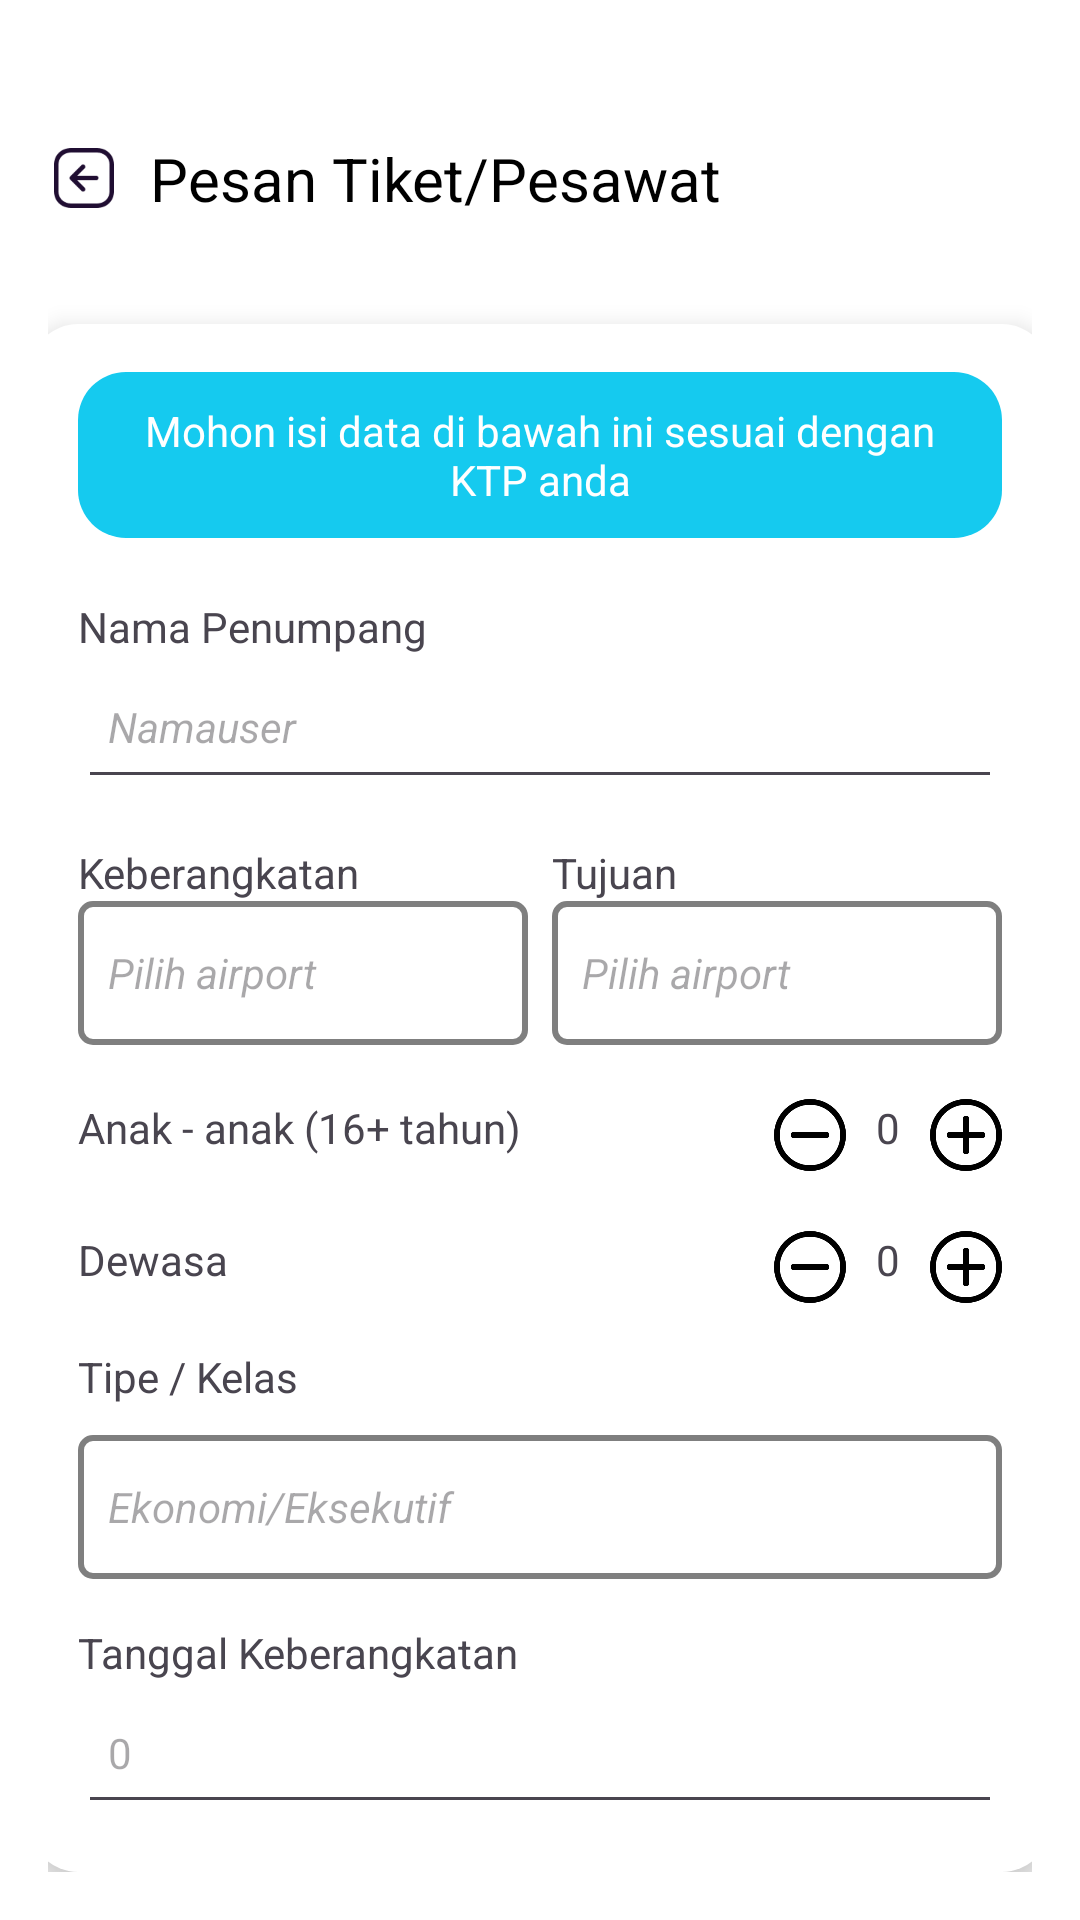

Icon bounding boxes for this 1080*1920 phone screenshot, format BBox(x1, y1, x2, y2):
iconback: BBox(54, 148, 114, 208)
iconminus: BBox(774, 1099, 846, 1171), BBox(774, 1231, 846, 1303)
iconplus: BBox(930, 1099, 1002, 1171), BBox(930, 1231, 1002, 1303)
